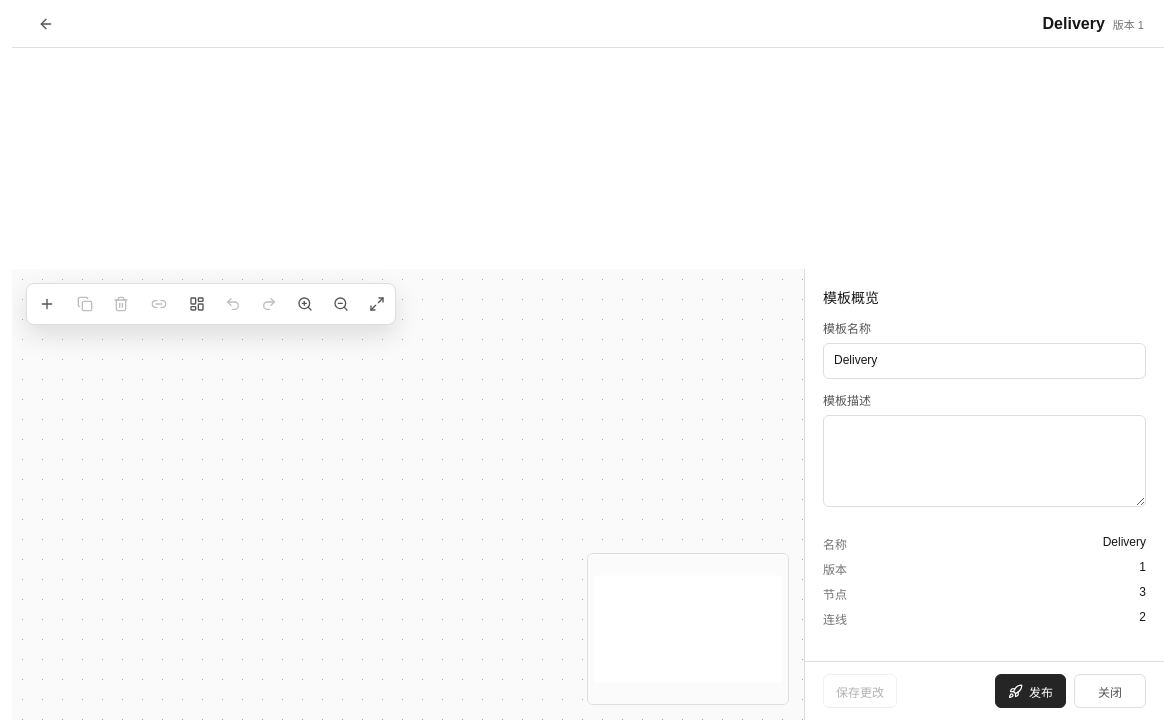
it: WorkflowTemplateCanvasPage › toasts a safe publish command failure and keeps the draft editable
The width and height of the screenshot is (1164, 720).
What coordinates should you click on to do the following:
click the button "发布"
I would click on:
 (1030, 691)
Its box is left=995, top=674, right=1066, bottom=708.
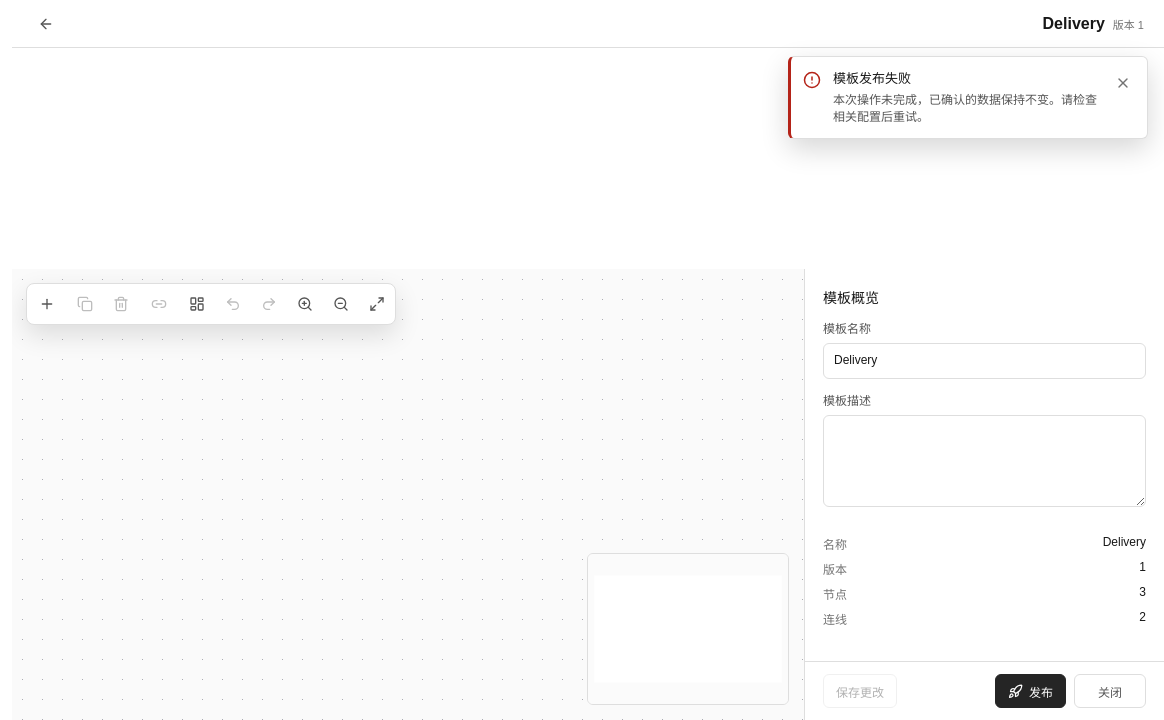
Expected: the message does not show "token=secret", left=788, top=56, right=1148, bottom=139
Now the message shows "模板发布失败", box left=833, top=71, right=911, bottom=86
